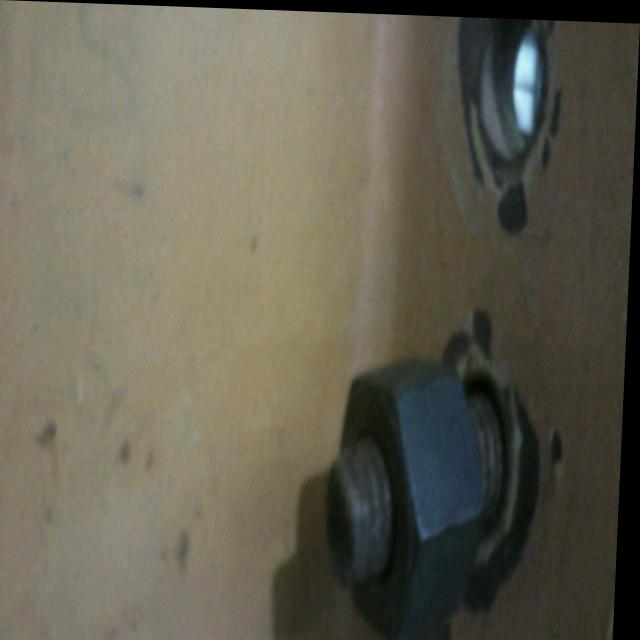Loose bolt: (328, 341, 516, 636)
Missing bolt: (474, 15, 560, 157)
Rusty bolt: (306, 333, 530, 629)
